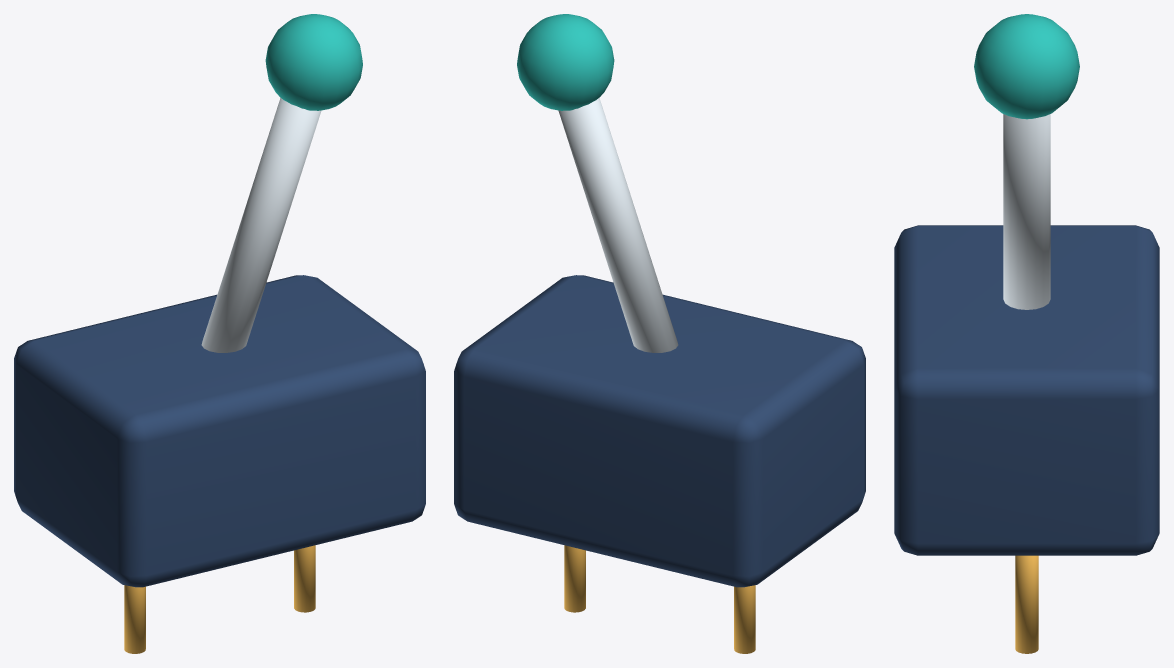
File: toggle-switch-lite.glb
3 renders of one model, left to right at view 1: azimuth 30°, elevation 25°; view 2: azimuth 150°, elevation 25°; view 3: azimuth 270°, elevation 25°, orthographic. The views are drawn at different scales.
Parts seen in each view (by area): view 1: Switch body; view 2: Switch body; view 3: Switch body.
Part boxes in pixels (x1,y1,x2,y2): Switch body: (14,14,425,653); Switch body: (454,14,865,653); Switch body: (894,14,1159,653).
Size of the model in its own units: 0.65 by 1.19 by 0.45.
